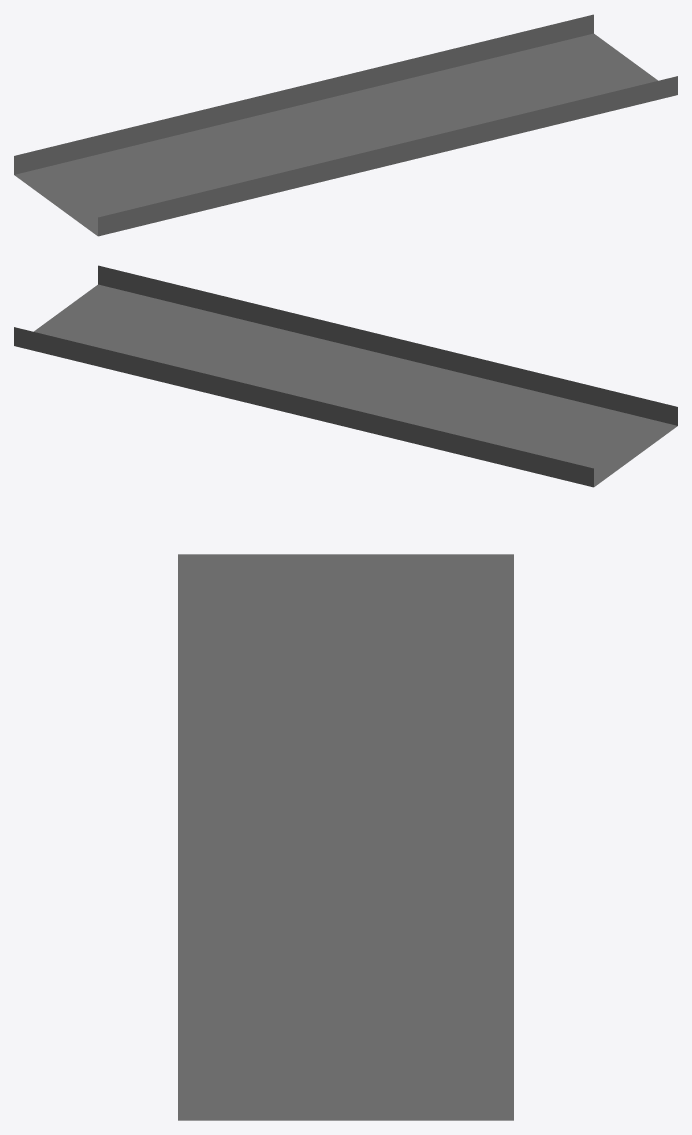
Rendered from Itr_Couch_Outside_Bottom_03.FBX.
3 views of the same model, one above another, from view 1: azimuth 30°, elevation 25°; view 2: azimuth 150°, elevation 25°; view 3: azimuth 270°, elevation 25° (orthographic). The views are drawn at different scales.
Parts seen in each view (by area): view 1: Itr_Couch_Outside_Bottom_03; view 2: Itr_Couch_Outside_Bottom_03; view 3: Itr_Couch_Outside_Bottom_03.
Part boxes in pixels (left/top/right/bottom): Itr_Couch_Outside_Bottom_03: left=14, top=14, right=677, bottom=236; Itr_Couch_Outside_Bottom_03: left=14, top=265, right=677, bottom=487; Itr_Couch_Outside_Bottom_03: left=178, top=554, right=513, bottom=1120.
Bounding box in the file's own units: 57.26 × 1.79 × 14.38.
